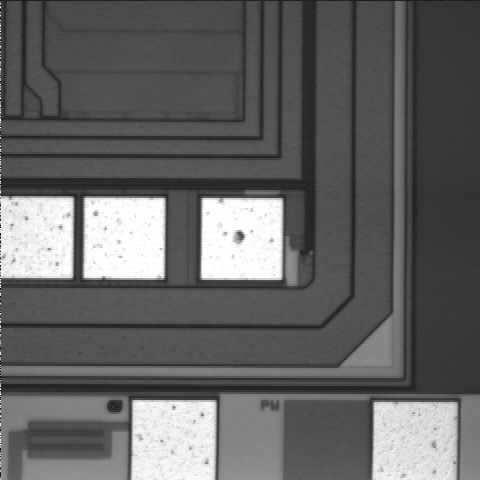pad: (201, 198, 283, 280), (84, 198, 165, 280)
